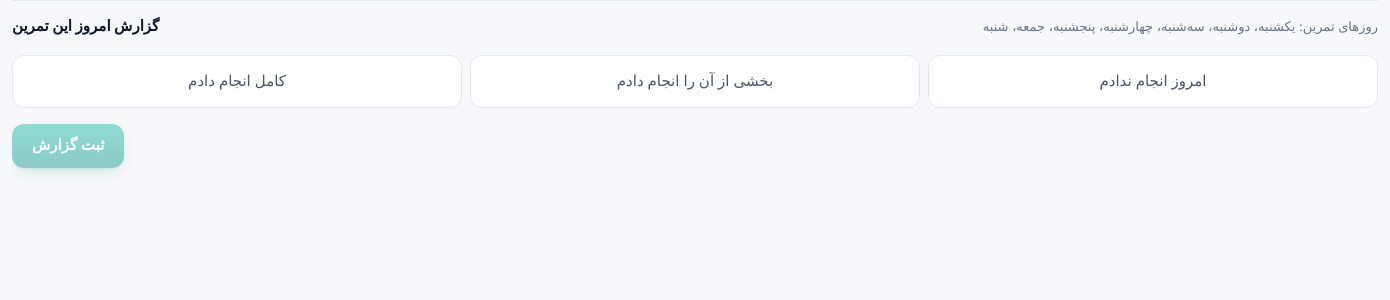
Test: per-exercise reporting › does not claim success on rejection
Click the button "کامل انجام دادم".
click(237, 81)  # box [12,55,462,108]
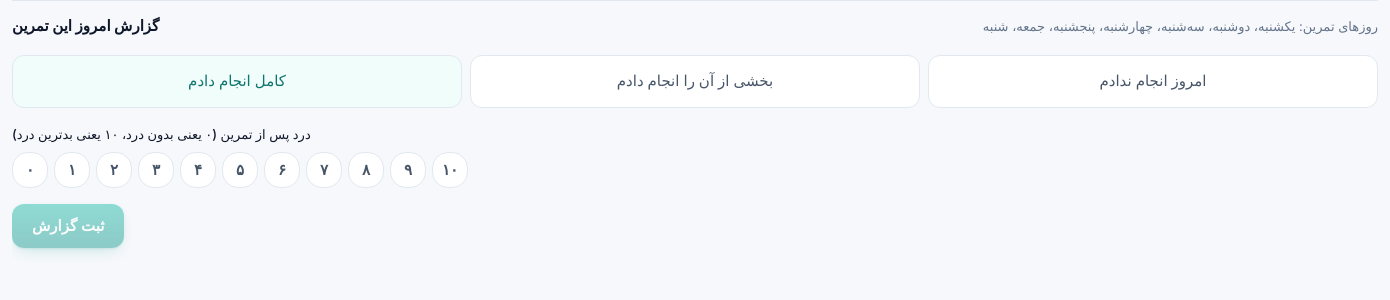
Click the button named "درد ۲ از ۱۰".
click(114, 170)  # box [96,152,132,188]
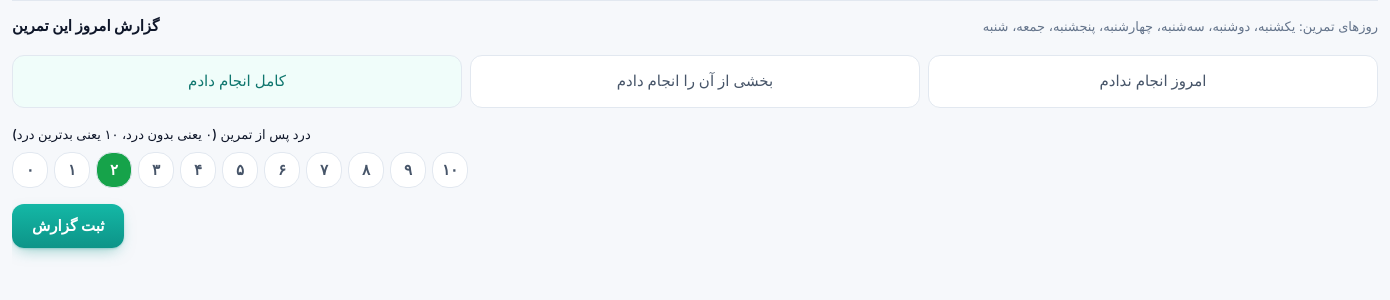
Click the button "ثبت گزارش".
click(68, 226)  # box [12,204,124,248]
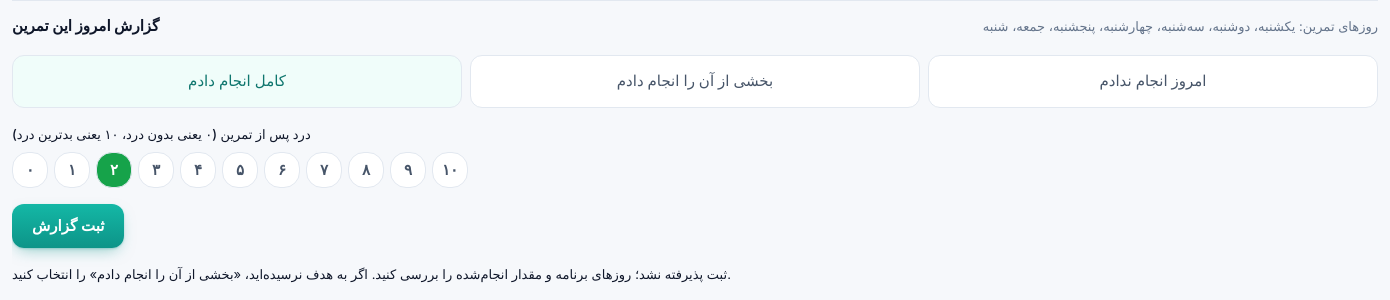
Expected: the button "ثبت گزارش" is enabled, [12,204,124,248]
Expected: the message shows "ثبت پذیرفته نشد", [12,266,731,282]
